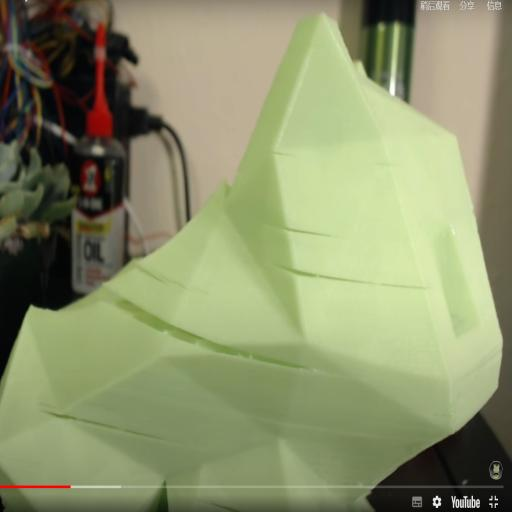cracks: (77, 274, 291, 383), (31, 403, 247, 481), (282, 256, 428, 295)
